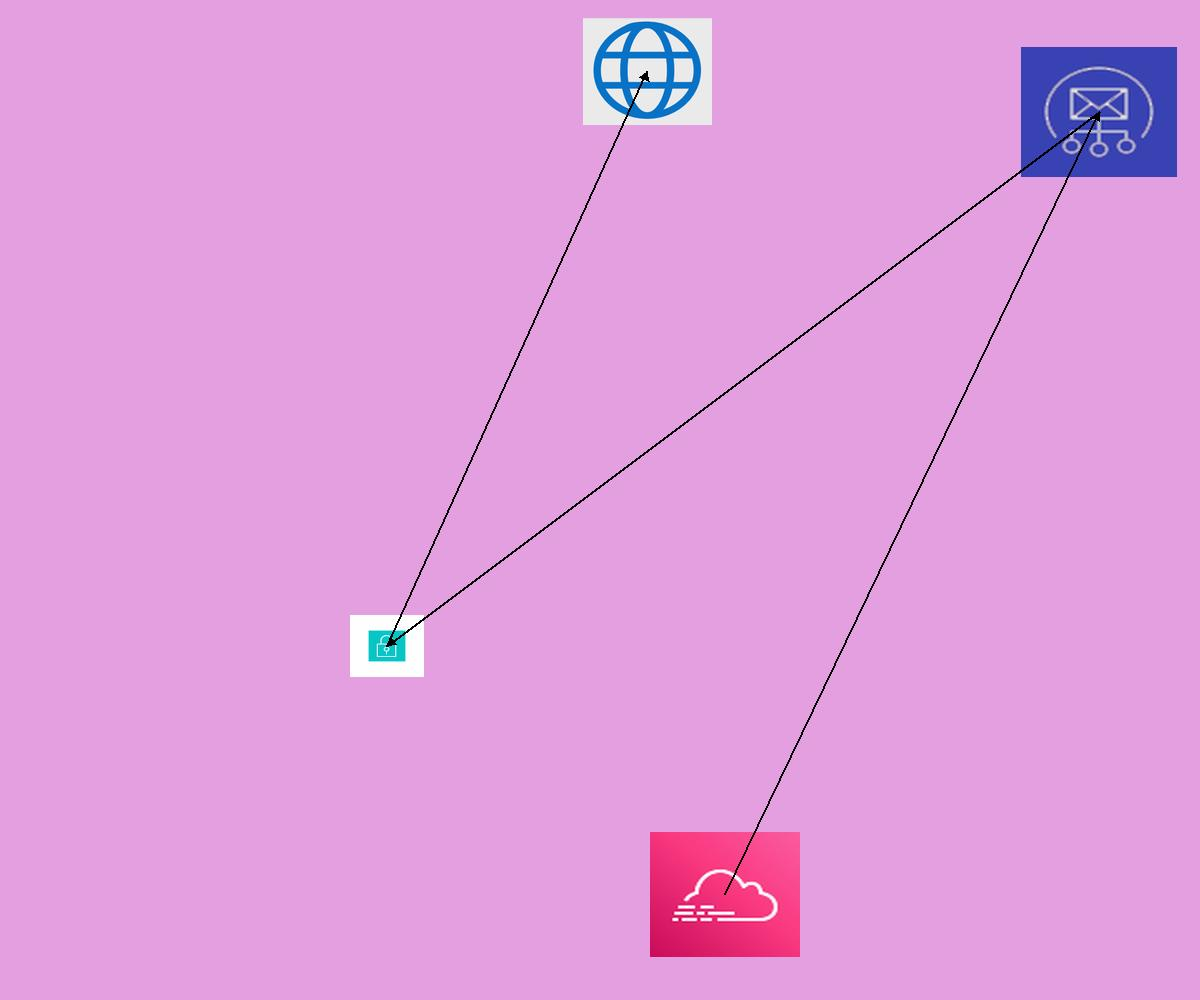AWS-CloudTrail: (650, 832, 800, 957)
AWS-Private-subnet: (350, 615, 424, 677)
AWS-Simple-Email-Service: (1021, 47, 1177, 177)
Azure_http: (583, 18, 712, 125)
